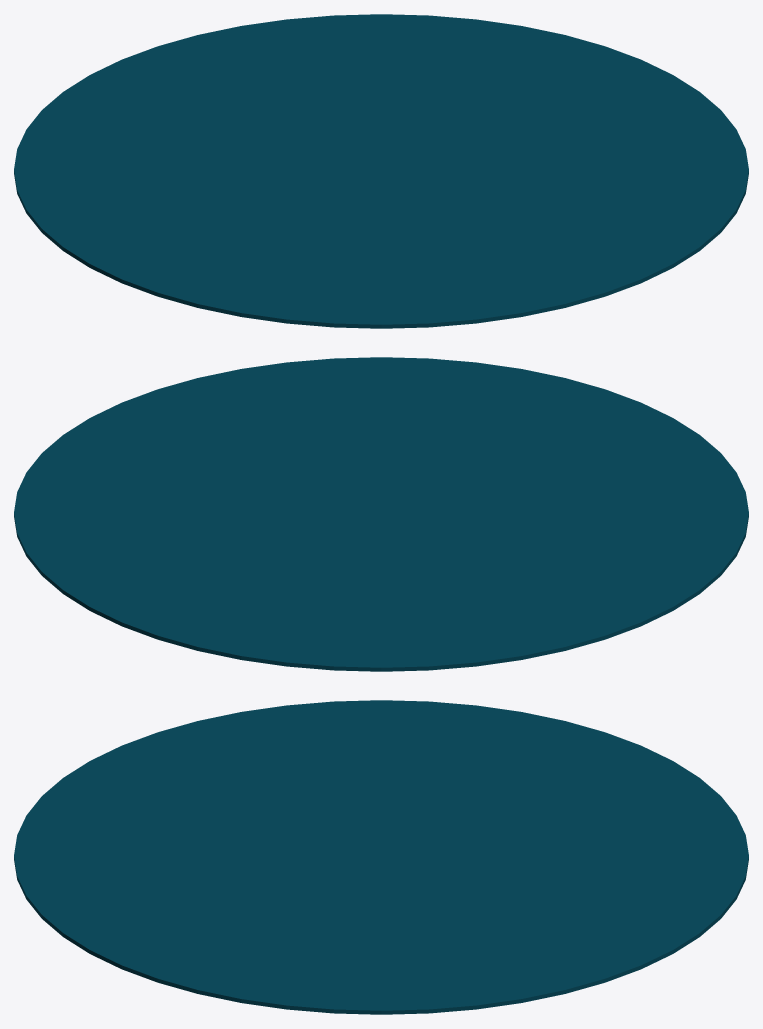
File: water_plane.obj
3 views of the same model, one above another, from view 1: azimuth 30°, elevation 25°; view 2: azimuth 150°, elevation 25°; view 3: azimuth 270°, elevation 25° (orthographic).
Visible parts, largest first — view 1: Plane; view 2: Plane; view 3: Plane.
Boxes of the visible parts, x1,y1,x2,y2 form: Plane: [14, 14, 748, 328]; Plane: [14, 357, 748, 671]; Plane: [14, 700, 748, 1014].
Size of the model in its own units: 5 by 0.03 by 5.
1 material, 1 textured.
